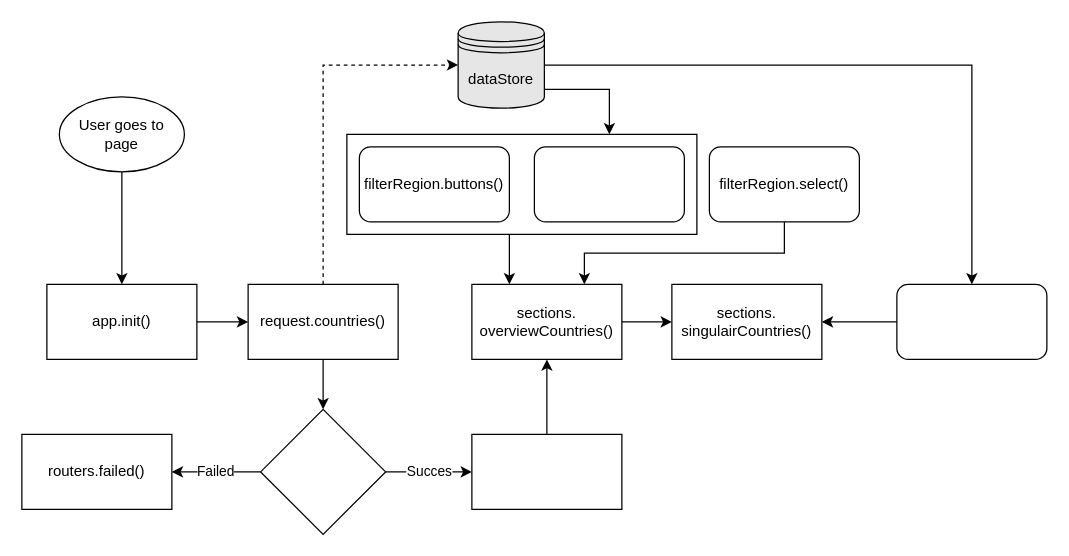
The diagram is 1069 pixels wide and 556 high, and some of its shapes have lost their labels. Here are the shapes that lost their labels. From the top down, the centre of each, then its label:
[608,184]: filterRegion.active()
[971,321]: sections. googleMaps()
[322,471]: succes or failed
[546,471]: routers.listen()
